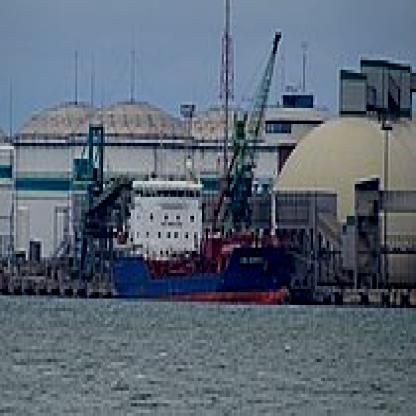Tanker: (111, 150, 297, 314)
